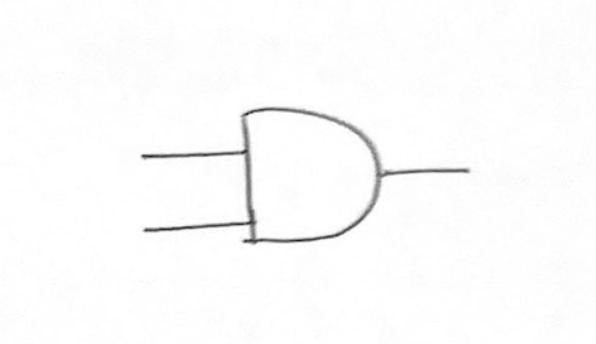AND: (224, 85, 412, 282)
